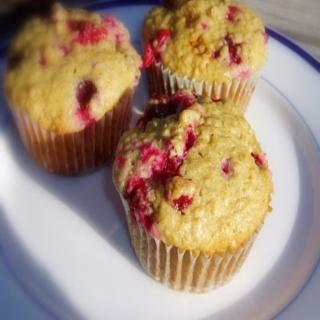Muffin: (112, 86, 278, 296), (0, 2, 142, 178), (139, 0, 268, 116)
